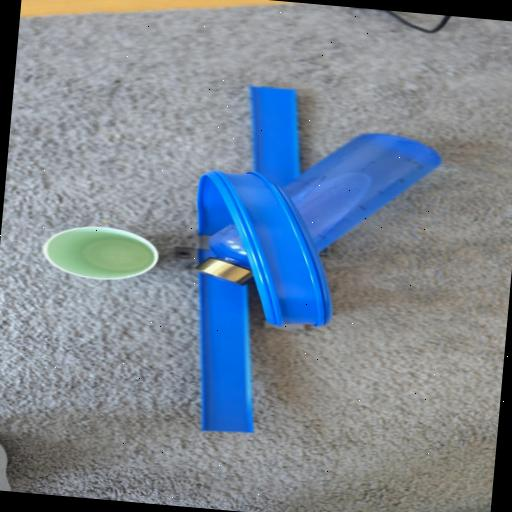bottle: (203, 108, 450, 282)
